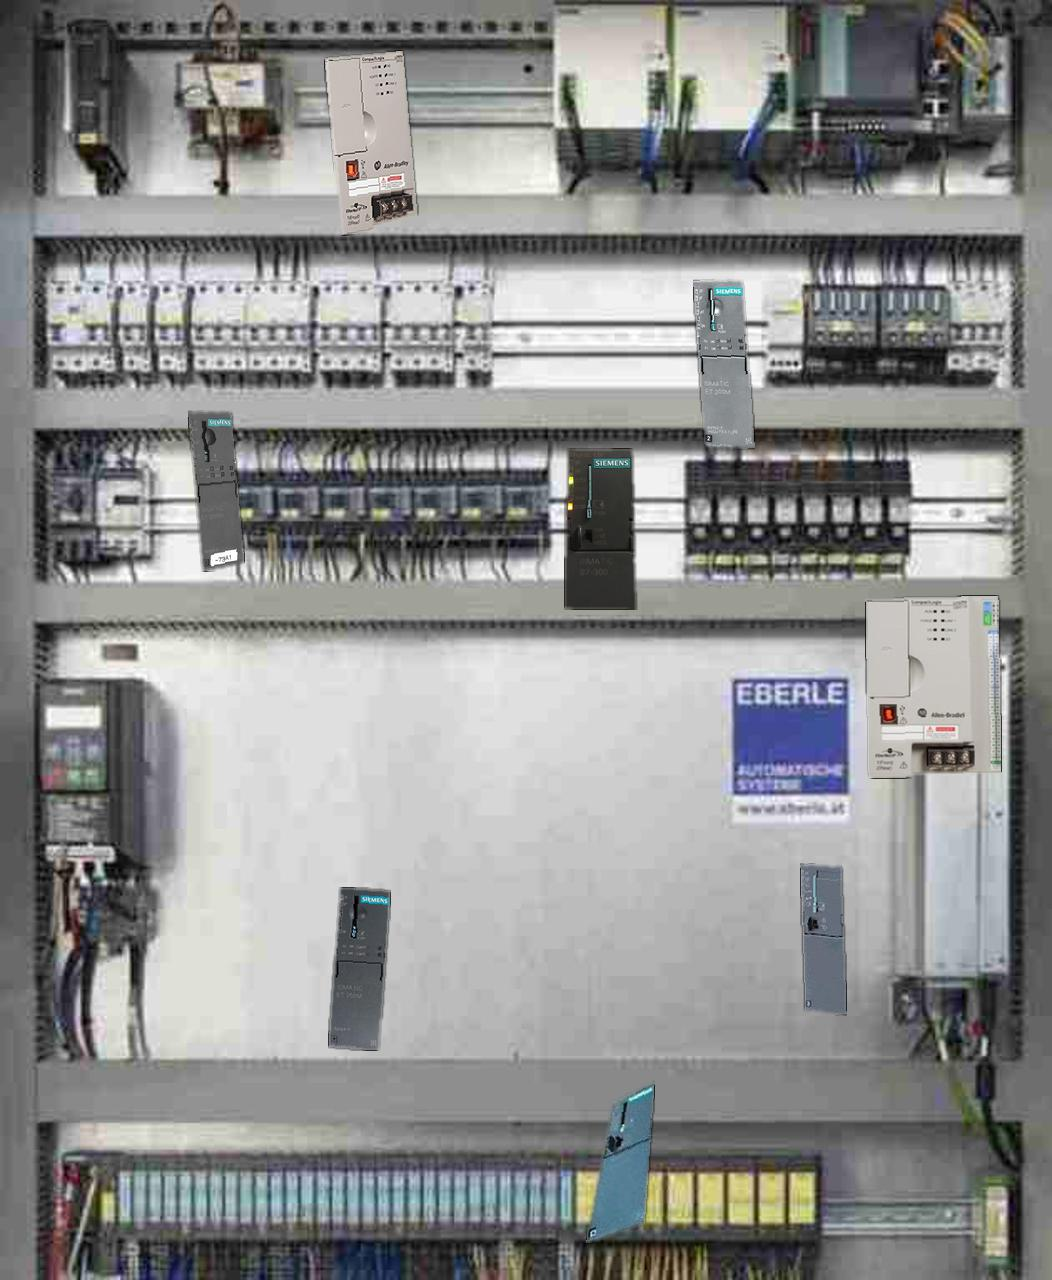AllenBradley: (865, 596, 1001, 777), (325, 51, 415, 234)
Siemens: (565, 449, 635, 609), (586, 1082, 654, 1242), (800, 865, 846, 1013)
